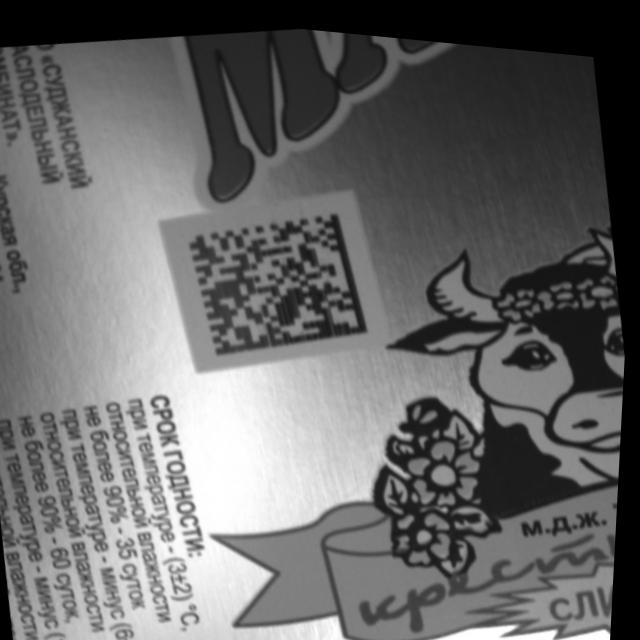datamatrix: (183, 191, 380, 366)
